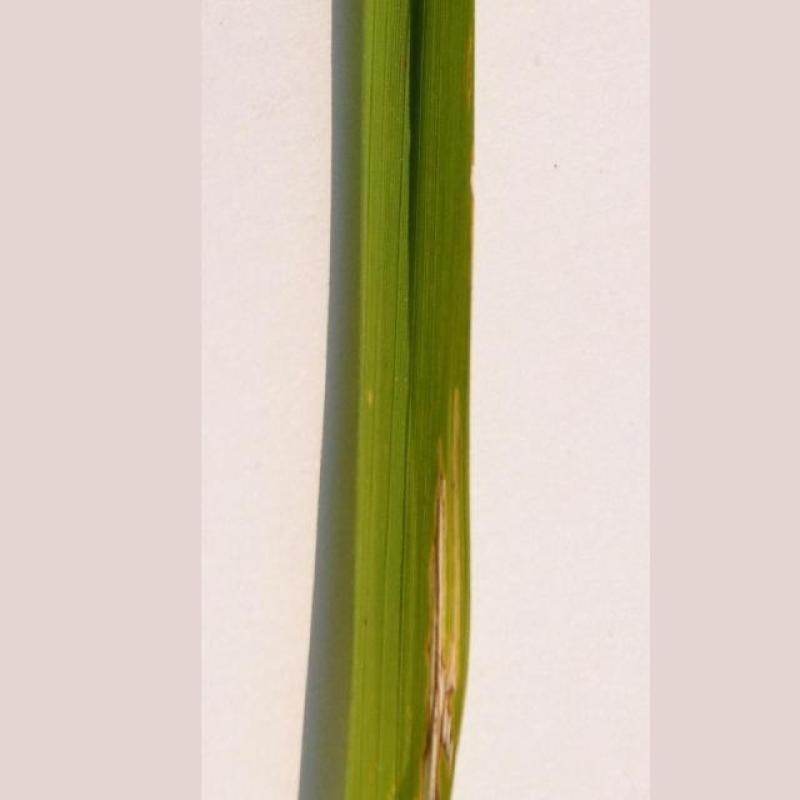Bacterial_Leaf_Blight: (395, 371, 481, 800)
